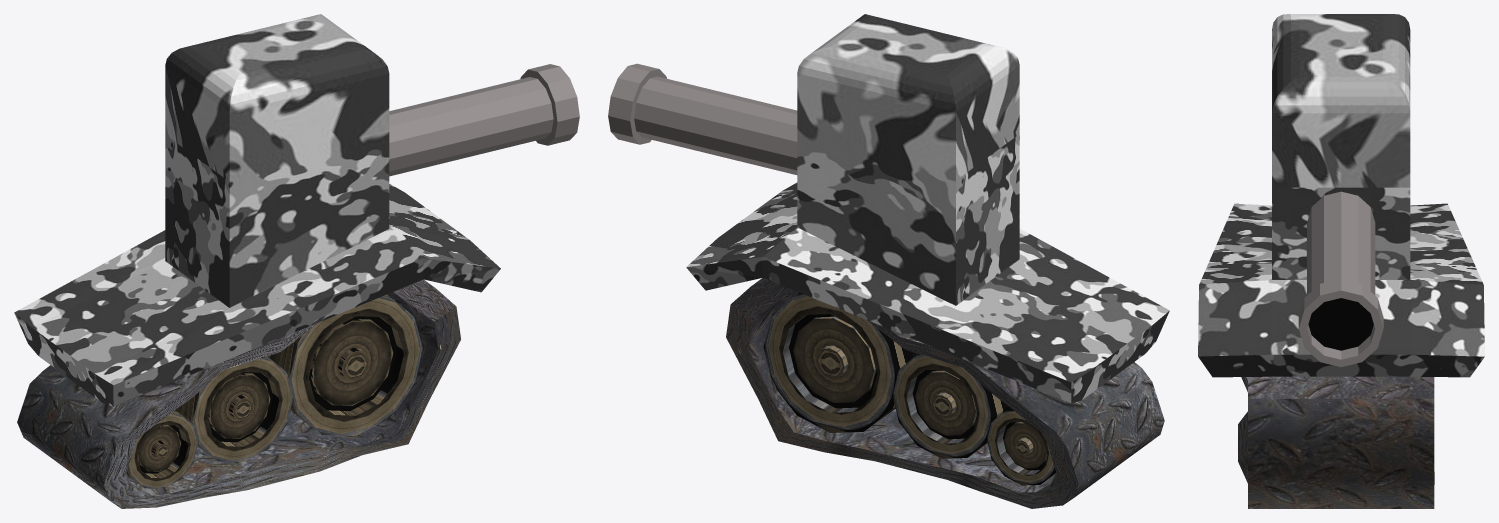
The model's file is HumanTankV2.fbx.
3 renders of one model, left to right at view 1: azimuth 30°, elevation 25°; view 2: azimuth 150°, elevation 25°; view 3: azimuth 270°, elevation 25°, orthographic. The views are drawn at different scales.
Parts seen in each view (by area): view 1: TankCentre, TankTrack, TankBWheel, TankPipe, TankMWheel, TankSWheel; view 2: TankCentre, TankTrack, TankBWheel, TankPipe, TankMWheel, TankSWheel; view 3: TankCentre, TankTrack, TankPipe.
Part boxes in pixels (<box>): TankCentre: <box>14,14,500,406</box>; TankTrack: <box>17,279,460,508</box>; TankBWheel: <box>267,294,423,435</box>; TankPipe: <box>389,64,579,176</box>; TankMWheel: <box>175,356,293,461</box>; TankSWheel: <box>126,410,198,488</box>; TankCentre: <box>686,14,1169,403</box>; TankTrack: <box>726,278,1164,508</box>; TankBWheel: <box>763,292,917,432</box>; TankPipe: <box>608,63,797,174</box>; TankMWheel: <box>892,354,1009,458</box>; TankSWheel: <box>986,408,1055,485</box>; TankCentre: <box>1198,14,1484,377</box>; TankTrack: <box>1238,376,1434,508</box>; TankPipe: <box>1298,191,1383,367</box>.
Size of the model in its own units: 23.21 by 17.53 by 10.77.
Materials: 5 (3 with a texture image).
